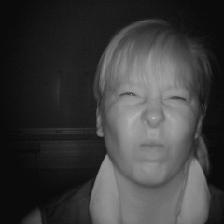sad: (88, 18, 214, 190)
